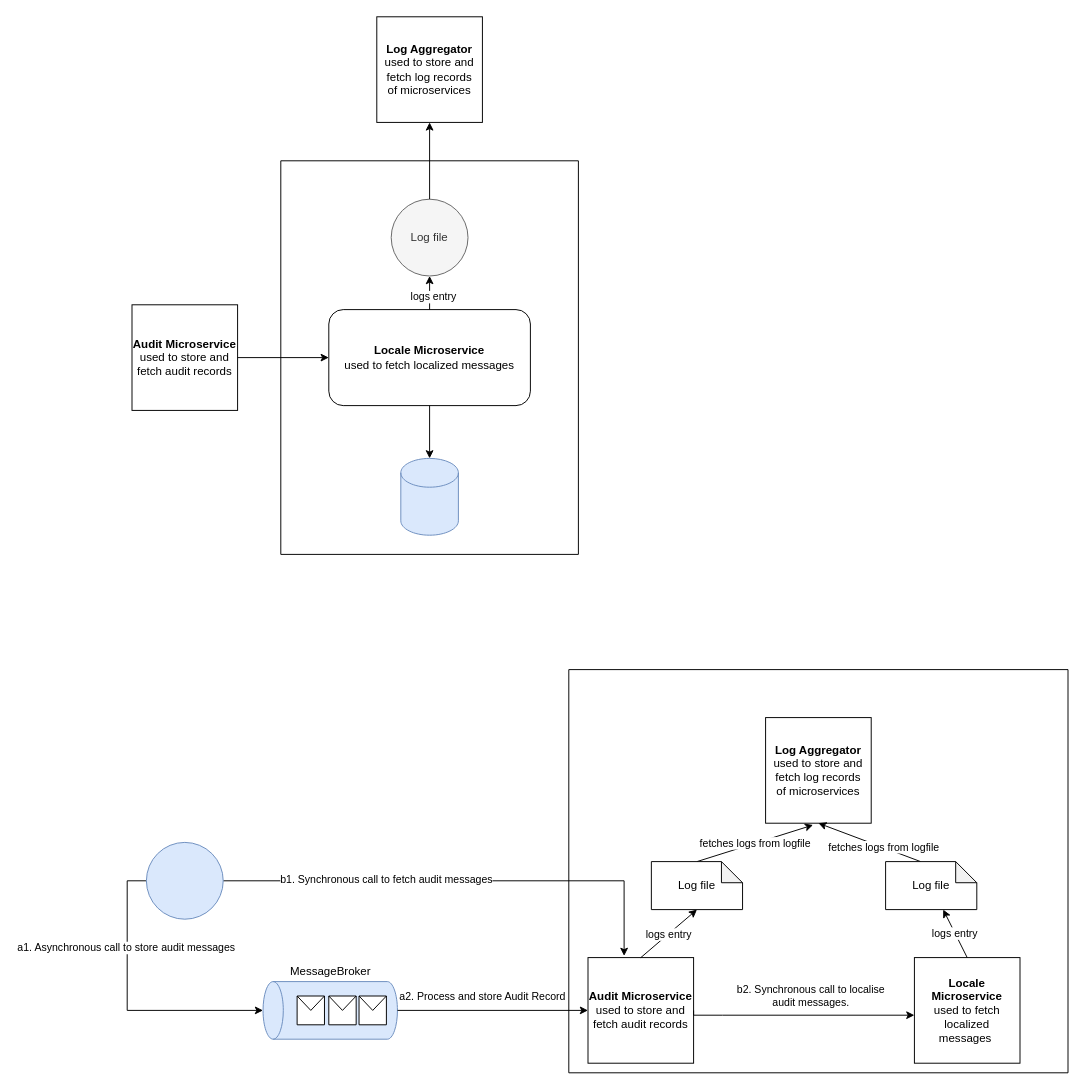
Some shapes in this 1085 by 1090 pixel diagram are drawn without their labels. Here are the shapes that lost their labels. From the top down, the centre of each, then its label:
At (429,496): "Database".
At (184,880): "Metallic Ring".
